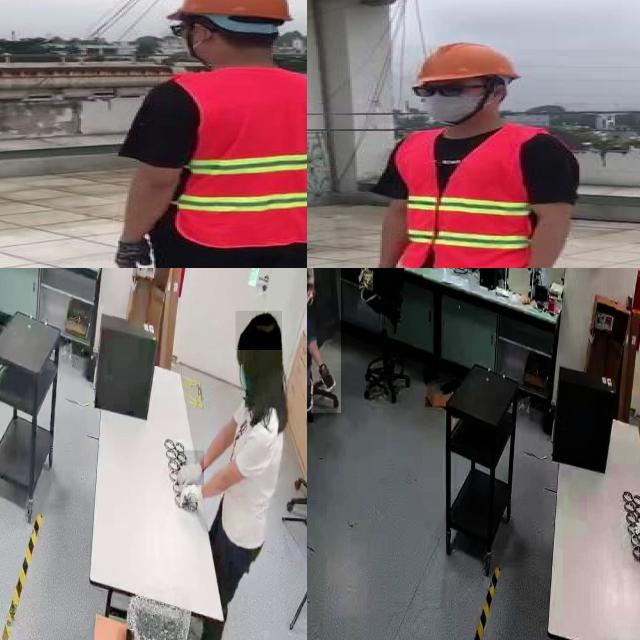face_mask: (409, 79, 492, 124)
glasses: (409, 80, 474, 102)
hand_glove: (307, 268, 341, 414), (109, 241, 162, 268), (176, 477, 204, 512), (177, 451, 204, 485), (631, 509, 640, 548)
hand_noglove: (307, 284, 315, 305)
head_helmet: (402, 37, 526, 84), (169, 0, 300, 25)
head_nohelmet: (235, 311, 282, 351)
person: (107, 0, 307, 268), (361, 36, 587, 268), (178, 350, 285, 640)
shoes: (317, 355, 337, 394), (307, 373, 315, 417)
vest: (168, 67, 307, 247), (389, 126, 543, 268)
